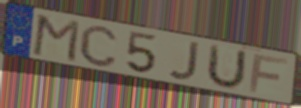5: (126, 30, 158, 75)
C: (77, 23, 120, 69)
F: (247, 53, 290, 95)
J: (166, 41, 202, 83)
M: (30, 13, 82, 64)
U: (203, 43, 248, 91)
